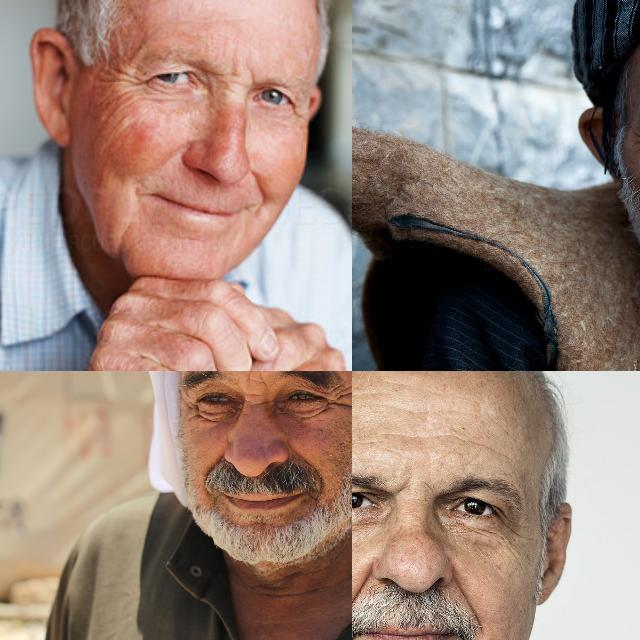crows_feet: (98, 55, 142, 95), (500, 506, 520, 544), (334, 382, 352, 413), (182, 398, 204, 422), (630, 127, 640, 152)
forehead: (373, 424, 505, 454), (376, 394, 480, 420)
frown_line: (238, 60, 264, 90), (245, 388, 269, 412), (392, 476, 412, 500), (244, 371, 265, 389)
gummy_smile: (452, 576, 482, 630), (248, 168, 272, 216), (352, 565, 371, 618), (291, 444, 319, 470), (206, 455, 224, 473)
